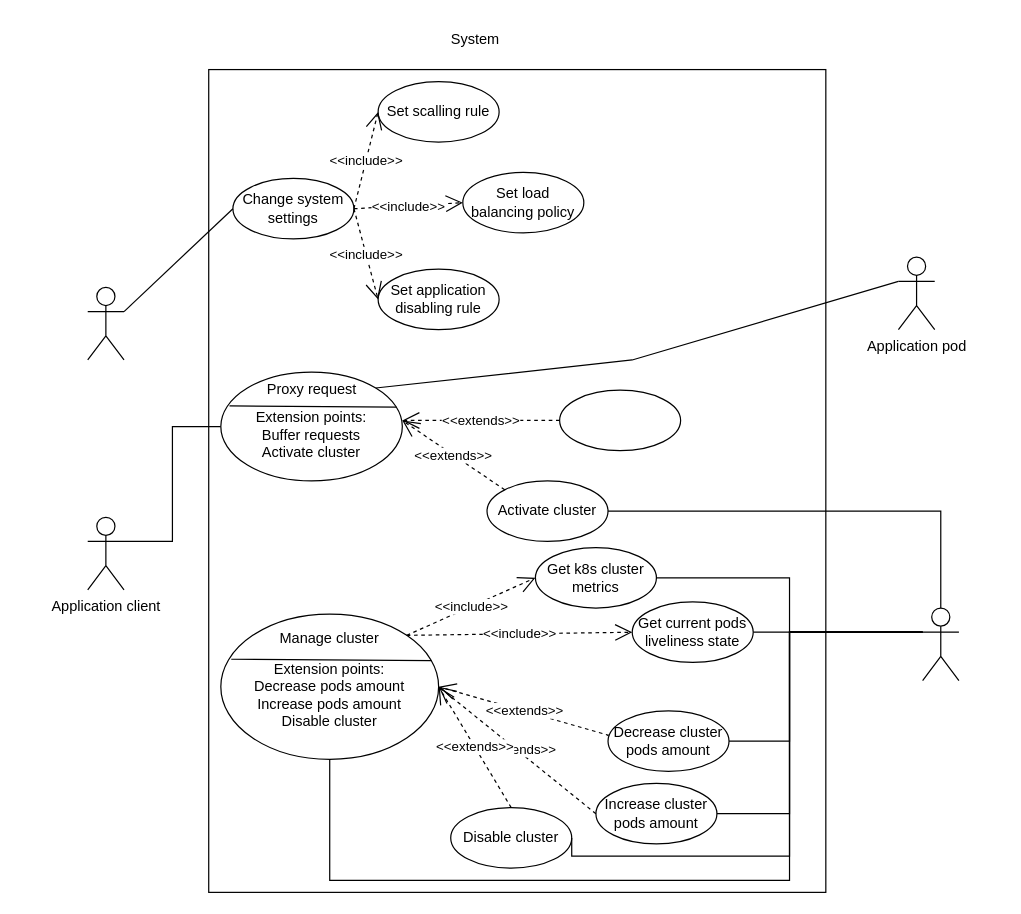
The diagram is 1021 pixels wide and 914 high, and some of its shapes have lost their labels. Each missing label, with the centre of its shape:
Buffer request: point 619,420
Kubernetes server: point 940,644
User (MLops/DevOps engineer): point 105,323
